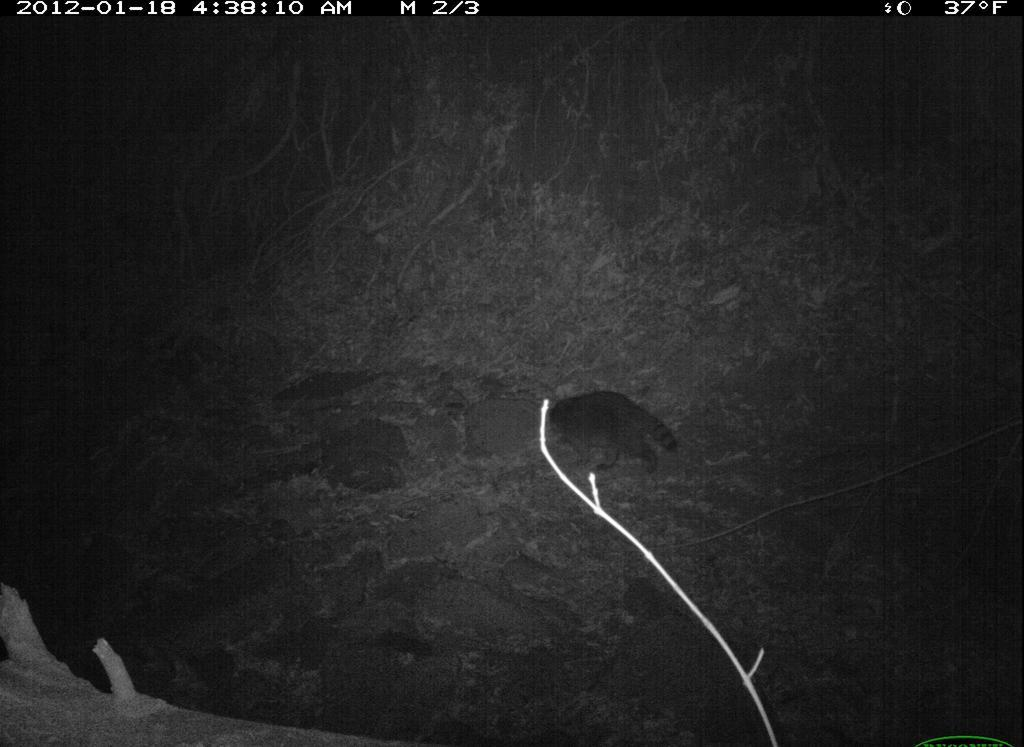raccoon: (530, 378, 683, 482)
